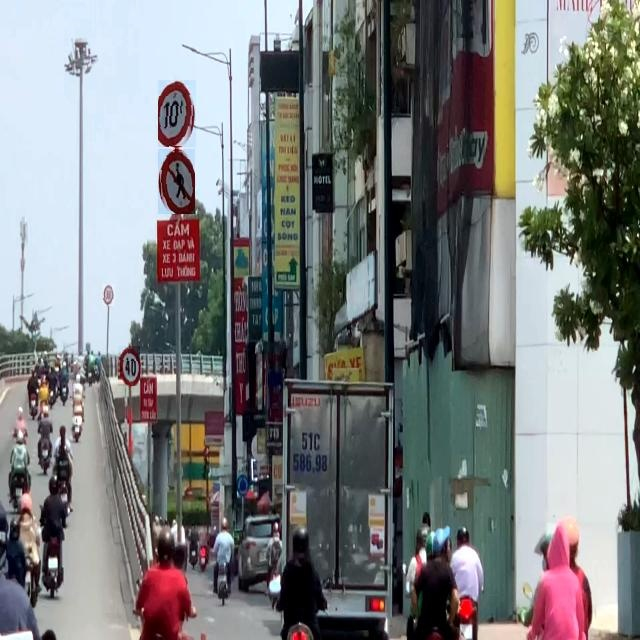bien_cam: (158, 80, 196, 147), (158, 149, 195, 214), (118, 346, 140, 386), (103, 284, 115, 306)
